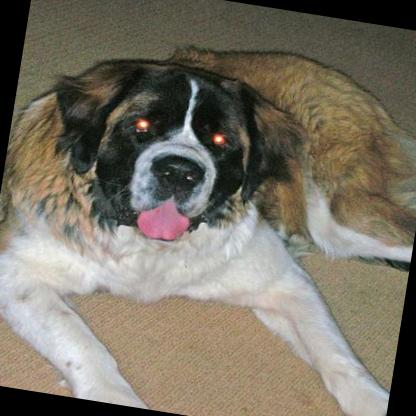Saint_Bernard: (0, 7, 416, 416)
